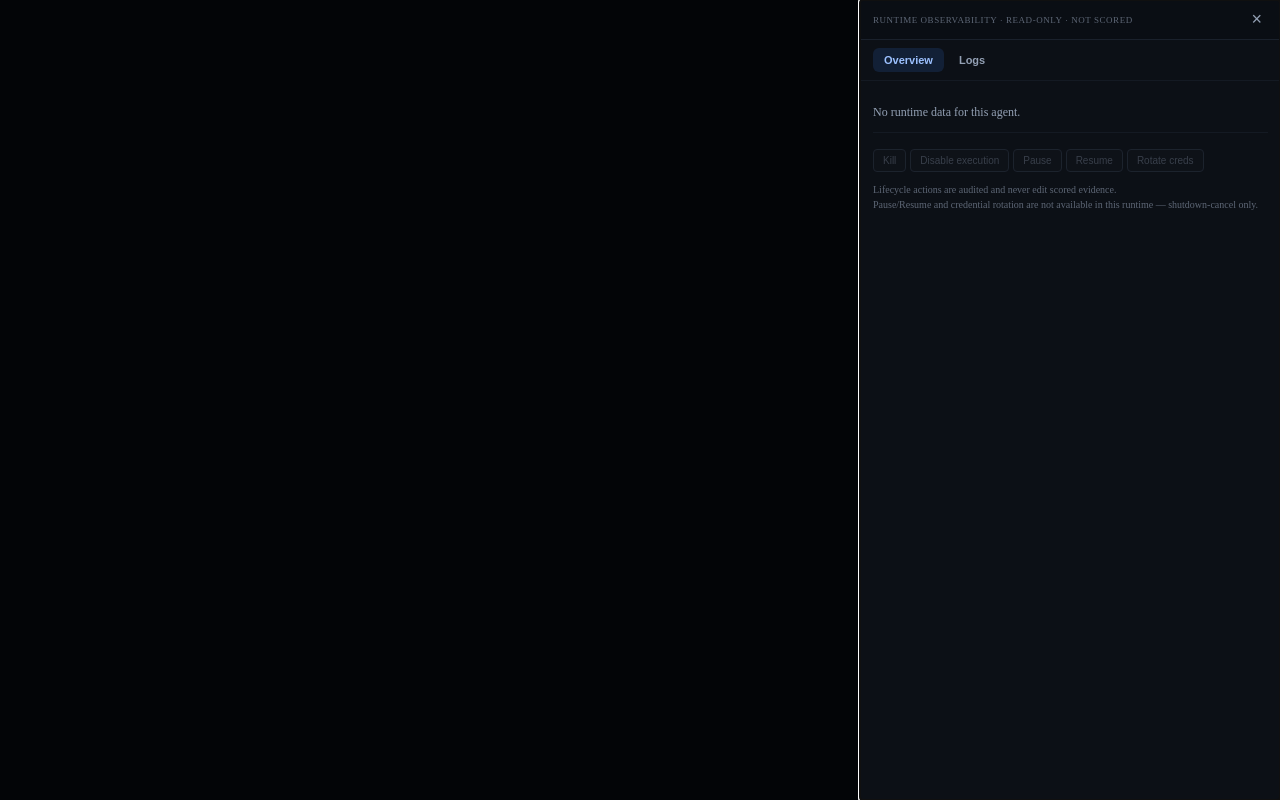
AgentOpsDrawer (REQ-030..032 / AC-003 / AC-030 / SEC-003 / F-6 live data) › #5 mock OFF + no events → honest-empty drawer copy, NEVER a fixture
Expected: the text "No runtime data for this agent." is shown, [873,105,1020,119]
# Logs: honest "nothing yet", never the fixture log lines
Click the tab "Logs" at (972, 60), box [948,48,996,72]
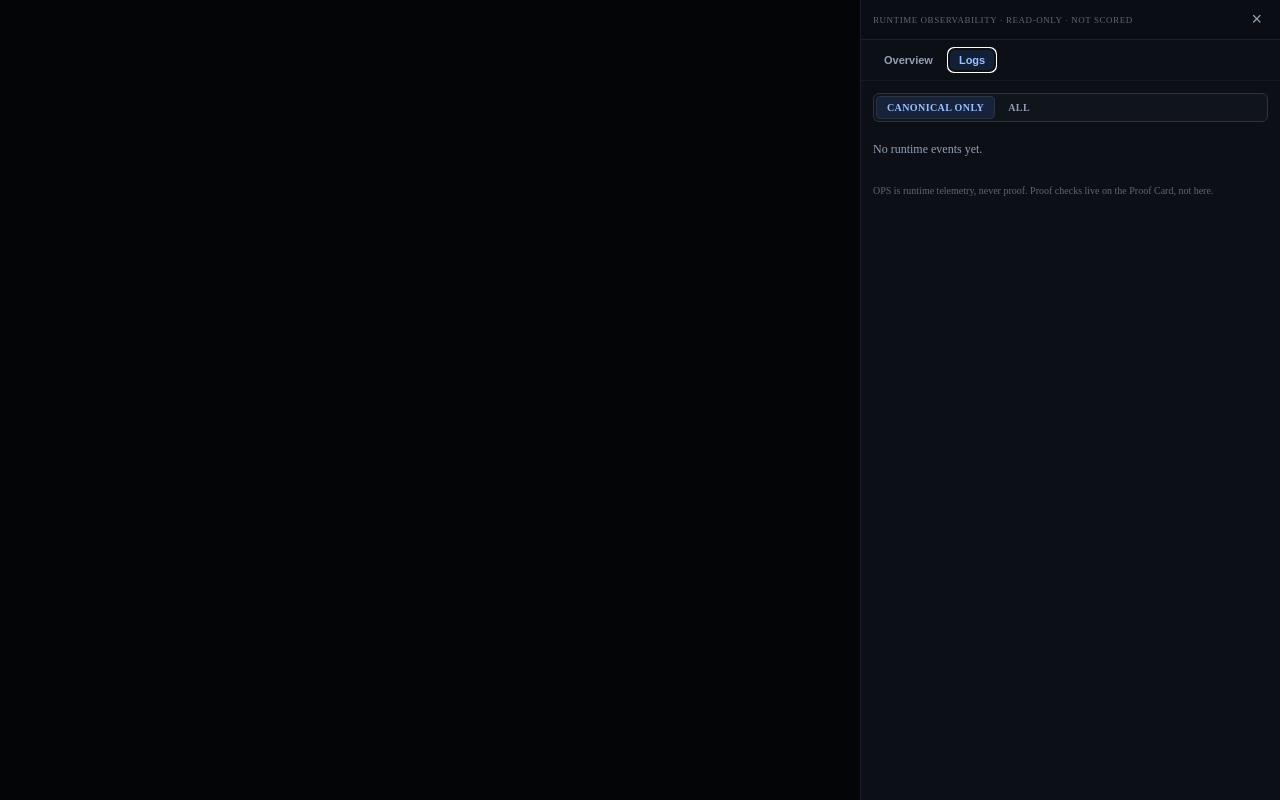
Expected: the text "No runtime events yet." is shown, [873,142,982,156]
